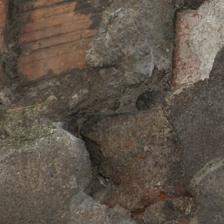Crack: (61, 120, 193, 217), (165, 1, 224, 101)
